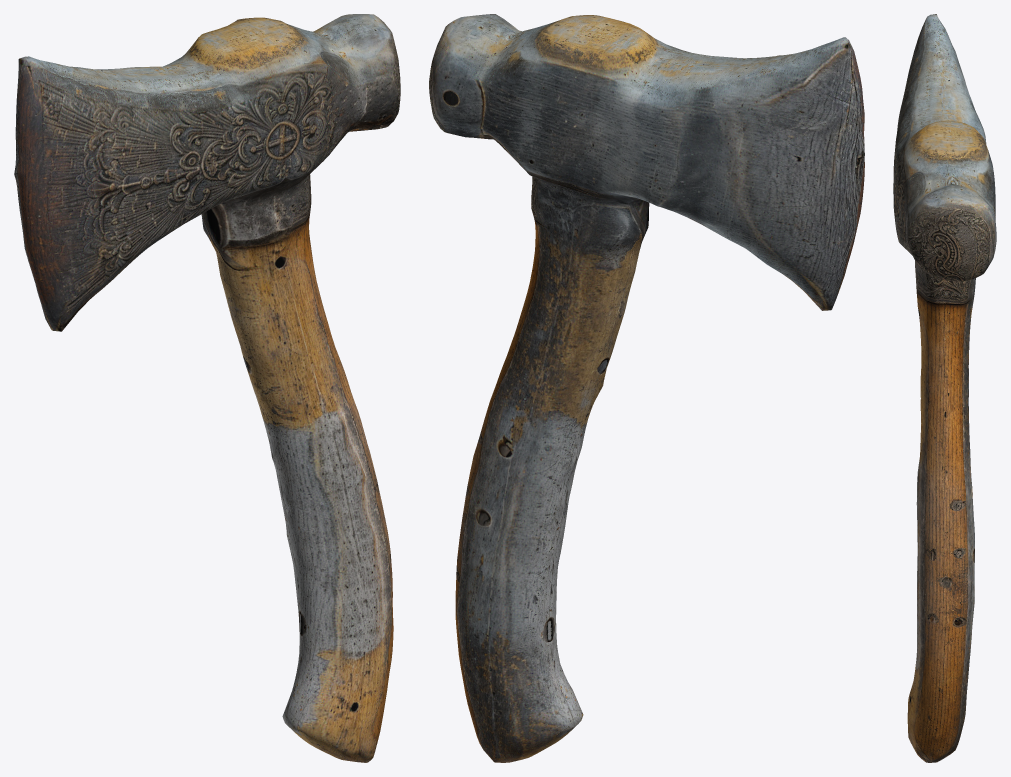
File: The_Axe_Hammer_17th_c_0924233621_refine.fbx
3 renders of one model, left to right at view 1: azimuth 30°, elevation 25°; view 2: azimuth 150°, elevation 25°; view 3: azimuth 270°, elevation 25°, orthographic. The views are drawn at different scales.
Visible parts, largest first — view 1: Mesh_0; view 2: Mesh_0; view 3: Mesh_0.
Boxes of the visible parts, x1=… form: Mesh_0: x1=14, y1=14, x2=400, y2=762; Mesh_0: x1=429, y1=14, x2=864, y2=762; Mesh_0: x1=893, y1=14, x2=996, y2=762.
Size of the model in its own units: 63.31 by 120 by 18.17.
1 material, 1 textured.
